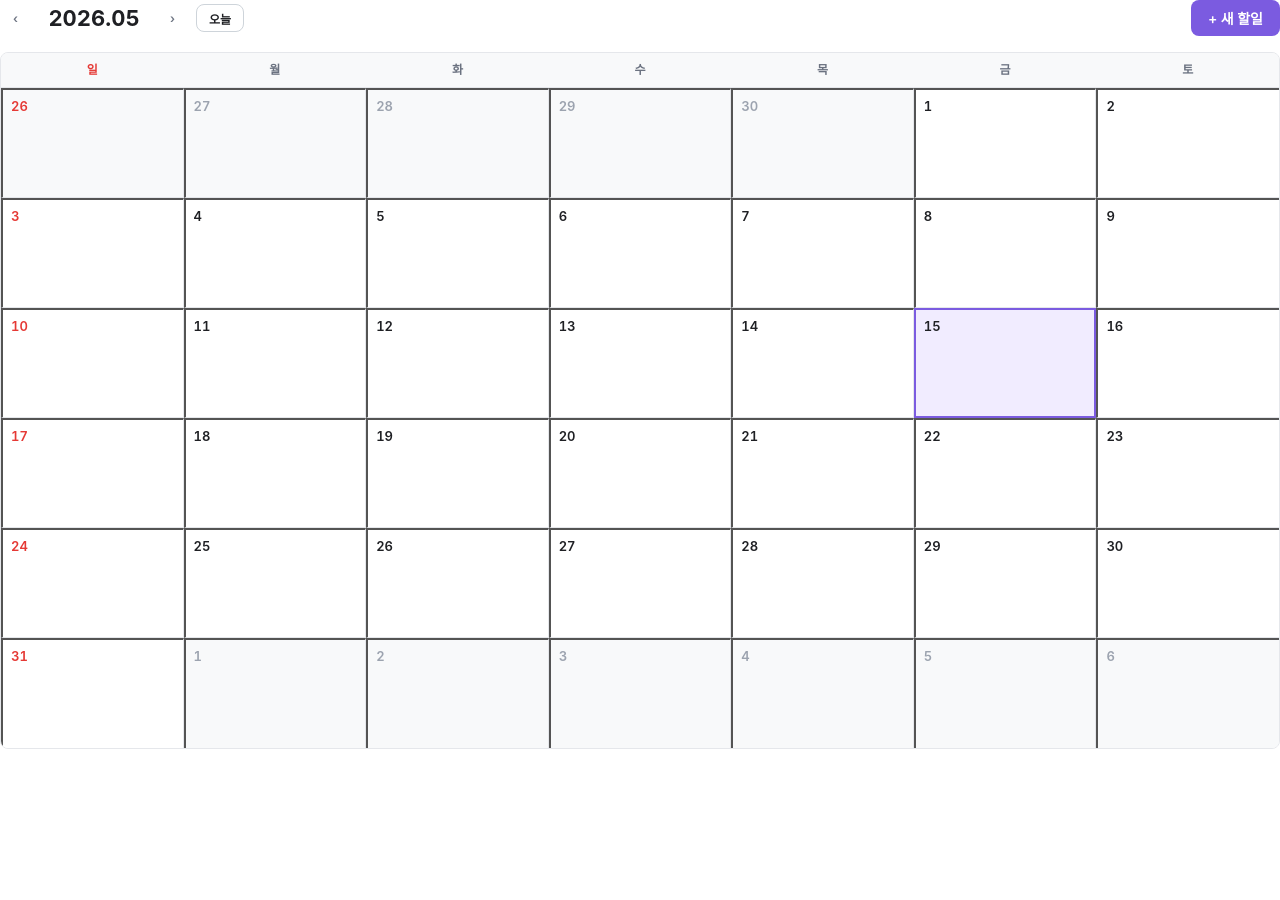
HomePage (캘린더 뷰) › "+ 새 할일" 버튼 → 빈 폼 모달
Click the button "+ 새 할일" at (1235, 18), box left=1191, top=0, right=1279, bottom=36
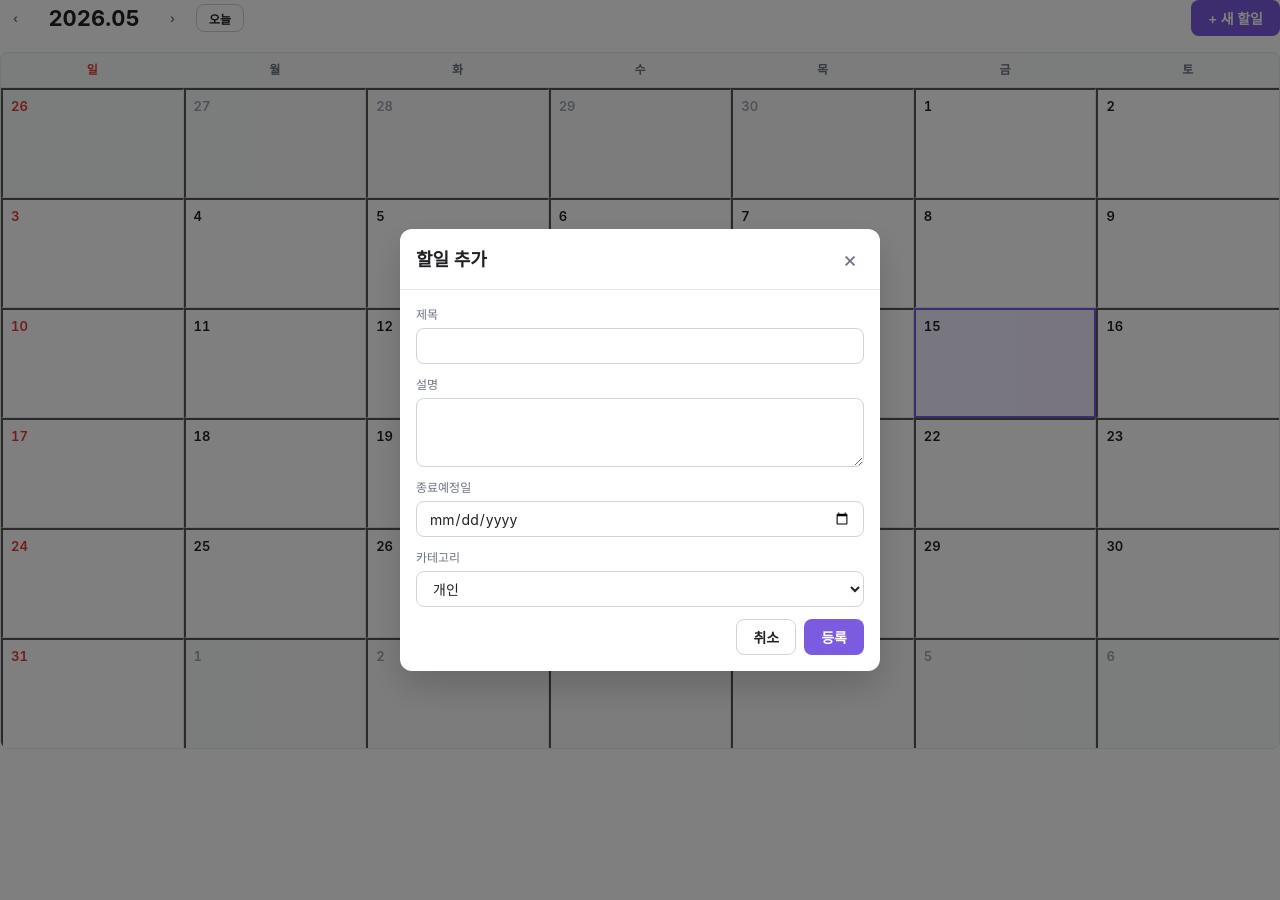
Now the heading "할일 추가" is shown, box left=416, top=246, right=487, bottom=272
Now the field labelled "제목" is empty, box left=416, top=328, right=864, bottom=364
